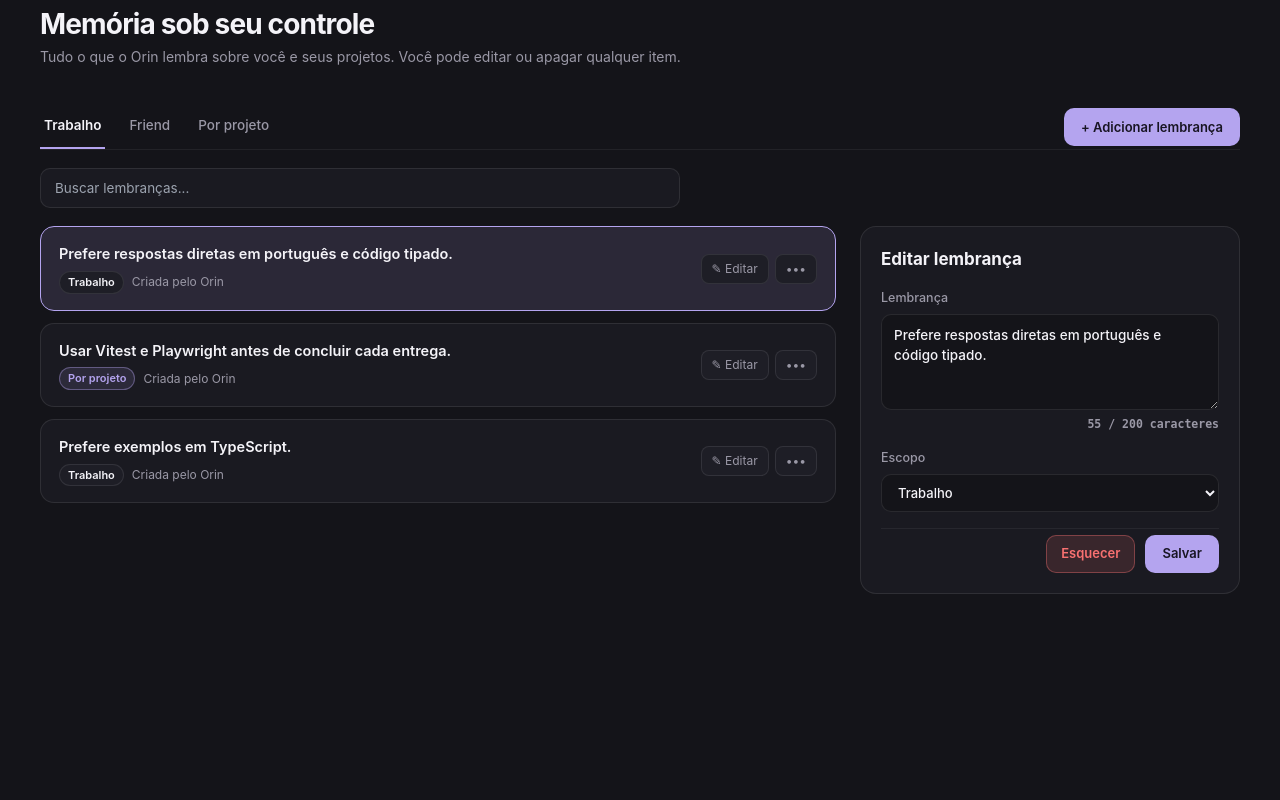
Test: Phase 6 — MemoryPage (ref-11.png) › updates the right-hand inspector when selecting a memory card and tracks the 200-char limit
Expected: the heading "Prefere respostas diretas em português e código tipado." is shown, [59,243,453,265]
Expected: the heading "Editar lembrança" is shown, [881,249,1022,269]
# Click second card (project scope)
Click the heading "Usar Vitest e Playwright antes de concluir cada entrega.": (255, 351) [59,340,451,362]
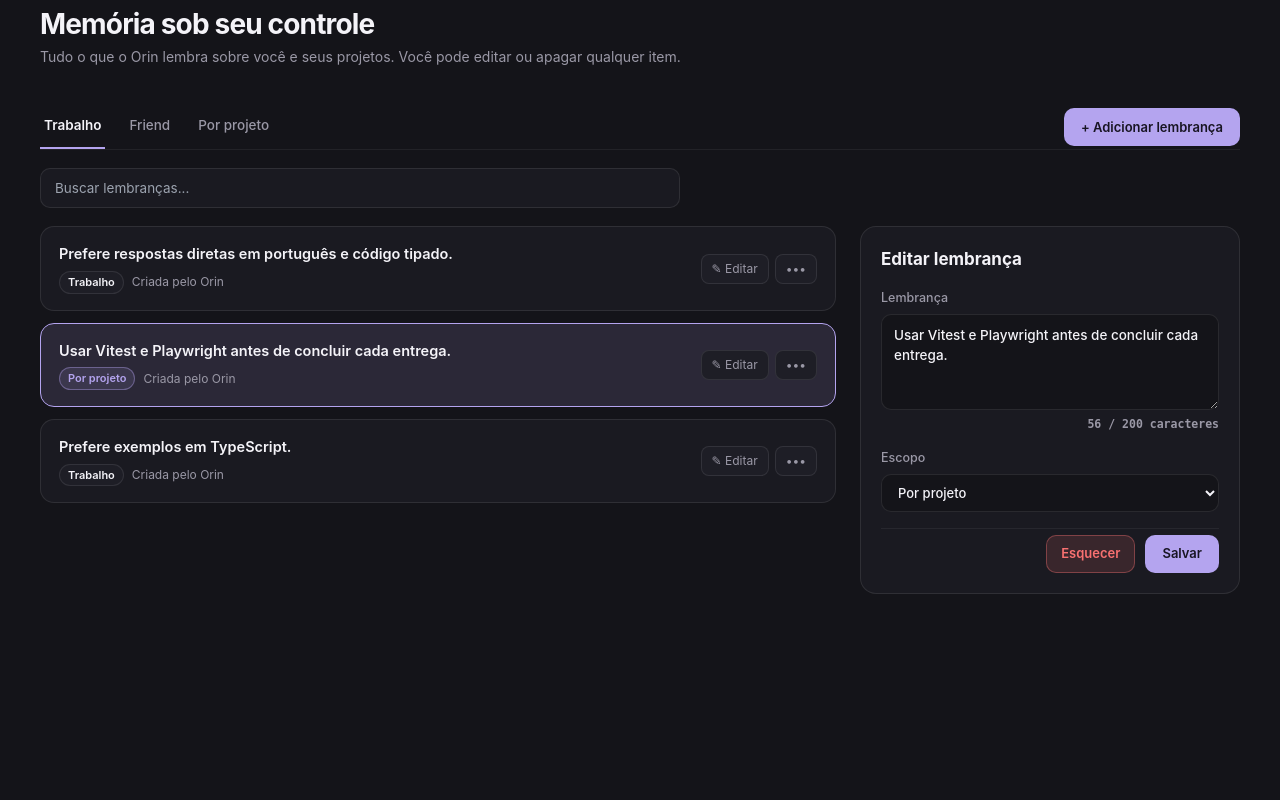
Expected: the dropdown labelled "Escopo" shows "Por projeto", [881,474,1219,512]
